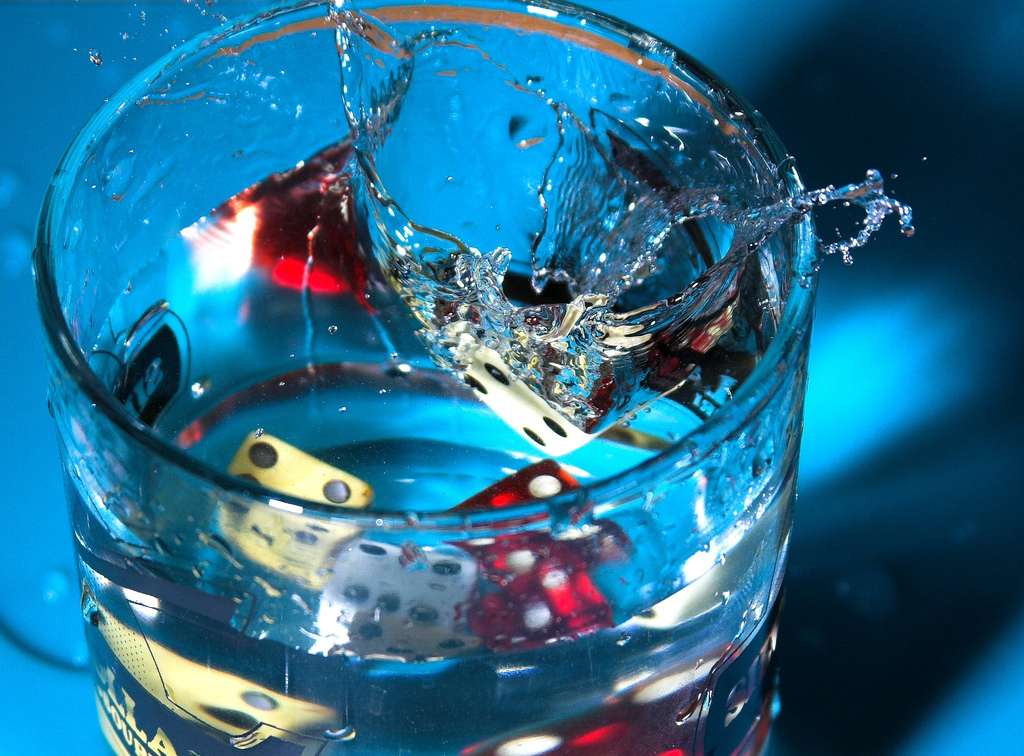glass of water: (132, 111, 745, 719)
